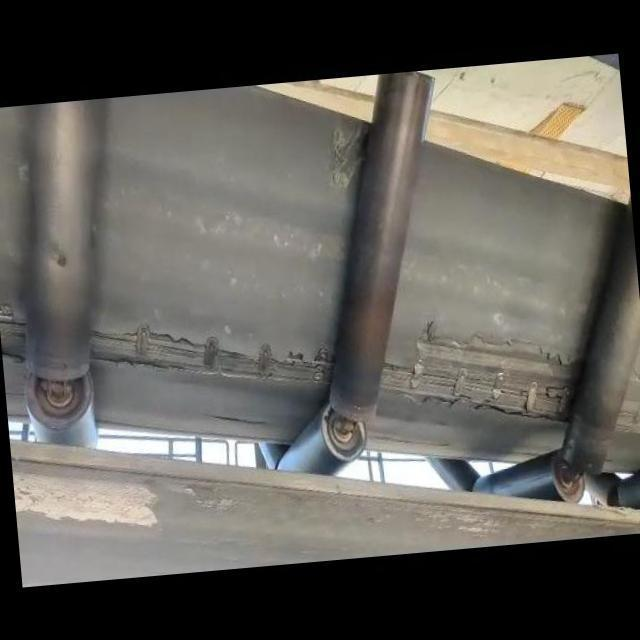Tear: (382, 323, 580, 428), (86, 310, 336, 390), (0, 300, 31, 368)
Wear: (323, 111, 370, 194)
